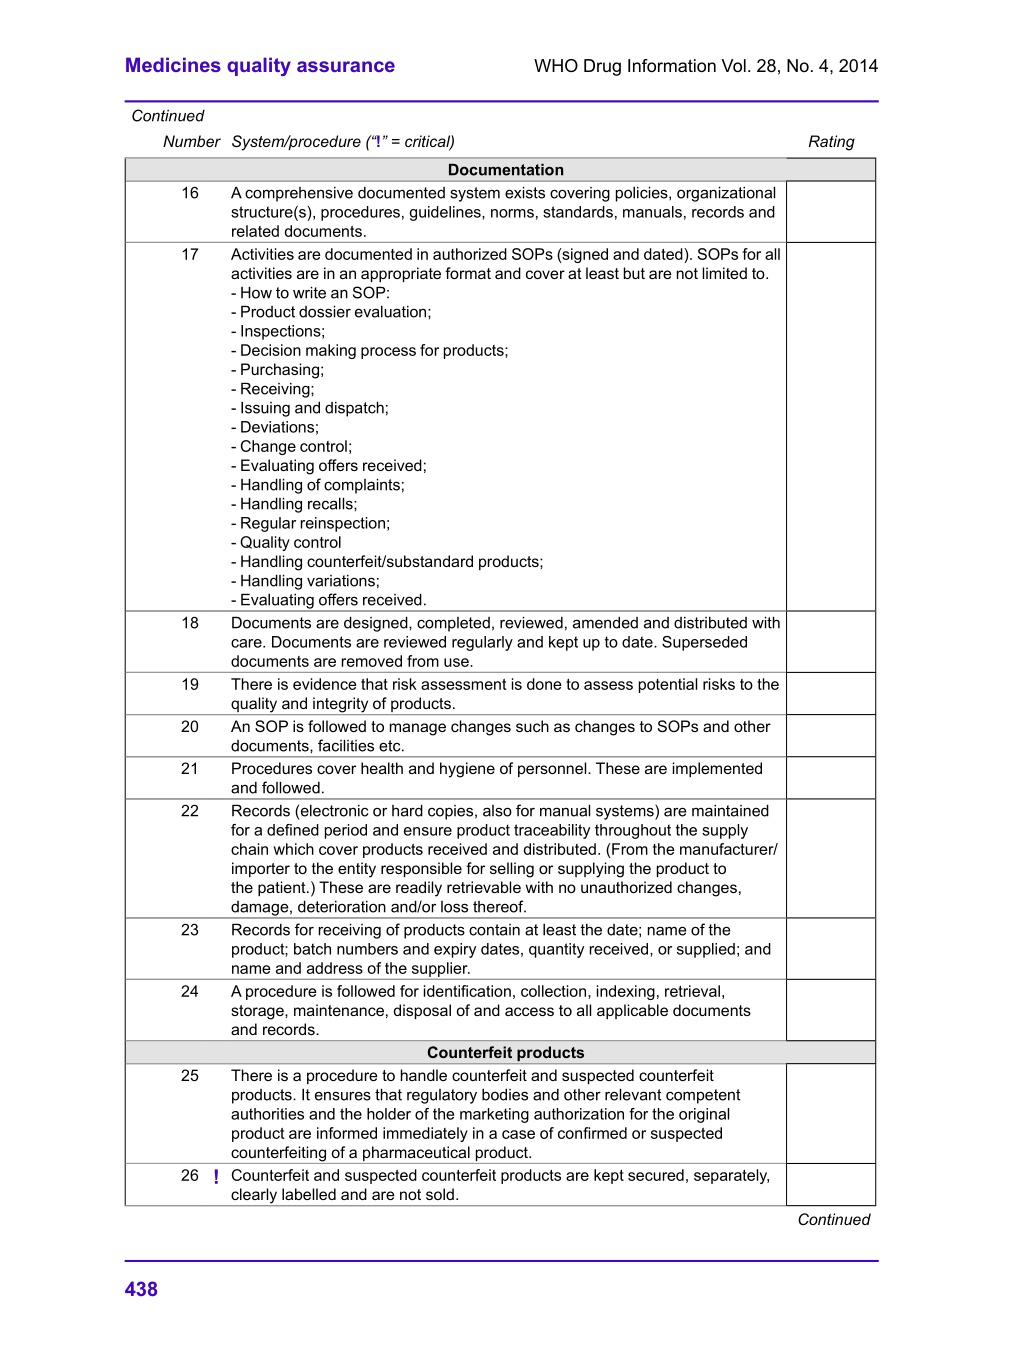partial_lined_merged_cells: (124, 156, 877, 1207)
